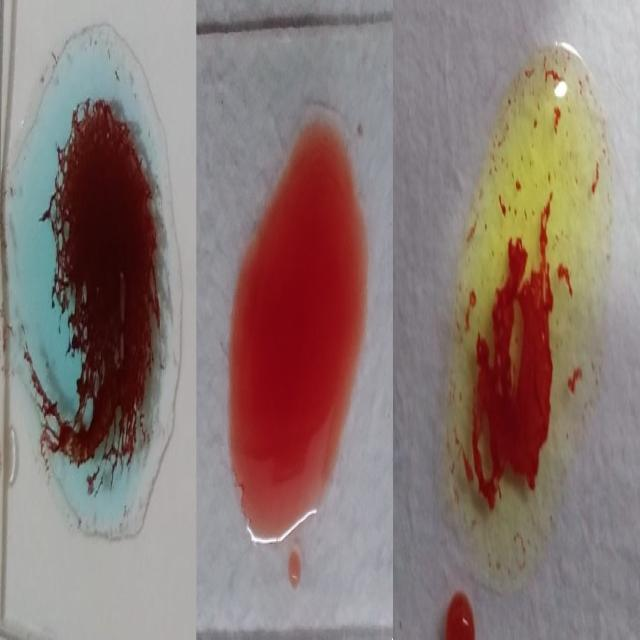A: (12, 28, 182, 532)
B: (447, 35, 613, 581)
